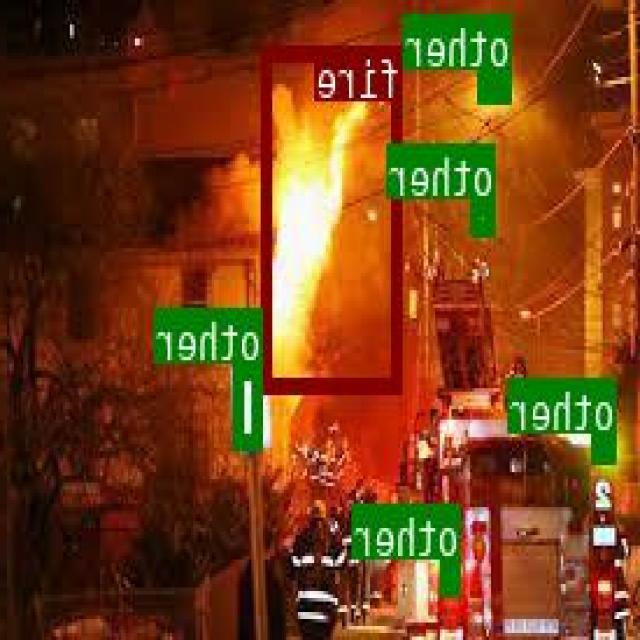fire: (265, 45, 404, 390)
other: (236, 361, 265, 446), (480, 68, 512, 100), (472, 196, 496, 233), (442, 556, 462, 592), (596, 433, 618, 461)
